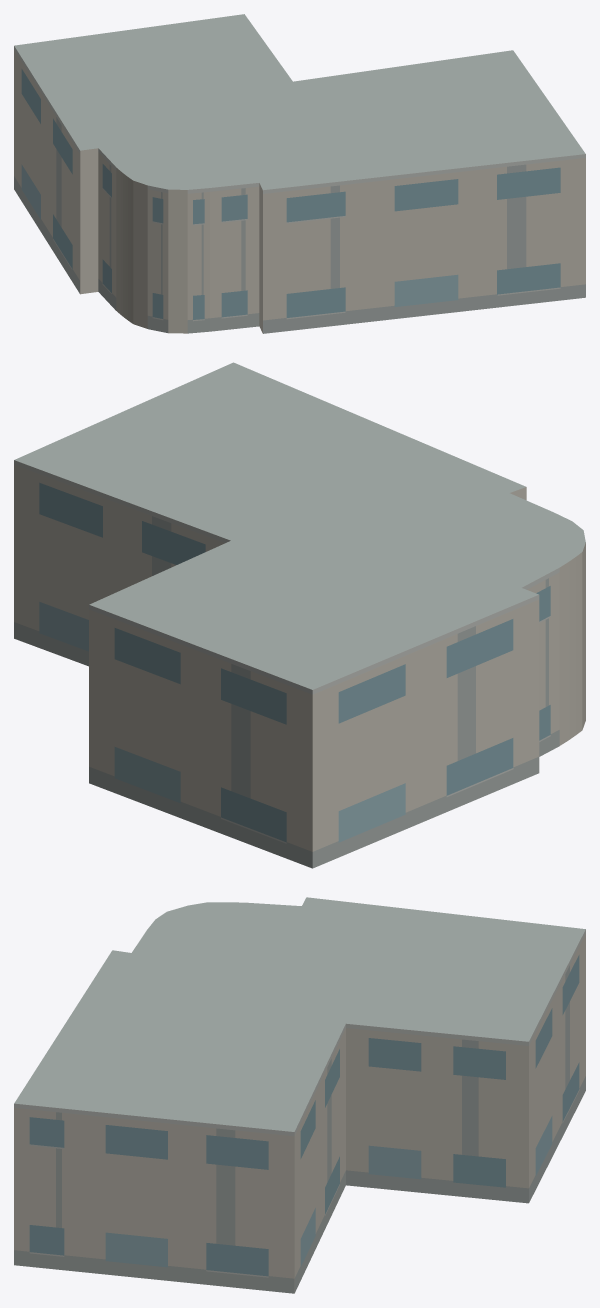
Rendered from survey-upis-32747944.glb.
3 renders of one model, top to bottom at view 1: azimuth 30°, elevation 25°; view 2: azimuth 150°, elevation 25°; view 3: azimuth 270°, elevation 25°, orthographic. The views are drawn at different scales.
Visible parts, largest first — view 1: survey-upis-32747944.tmp; view 2: survey-upis-32747944.tmp; view 3: survey-upis-32747944.tmp.
Boxes of the visible parts, x1,y1,x2,y2 form: survey-upis-32747944.tmp: (14,14,585,333); survey-upis-32747944.tmp: (14,362,585,868); survey-upis-32747944.tmp: (14,897,585,1293).
Bounding box in the file's own units: 28.53 × 9.15 × 29.35.
